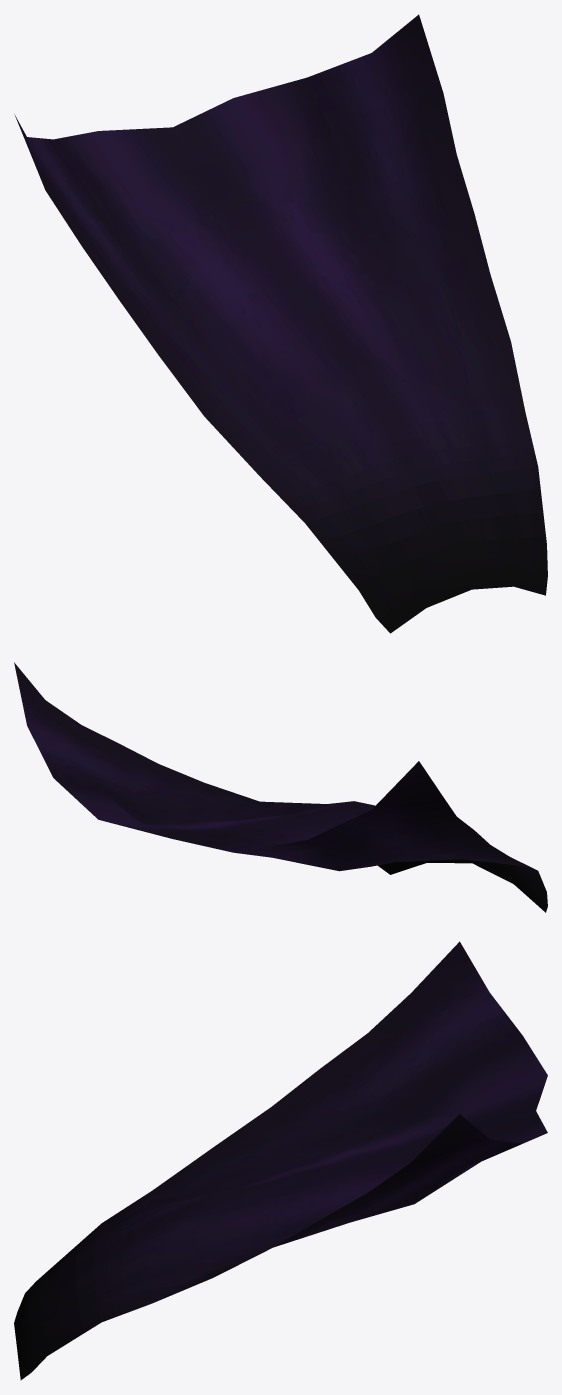
File: tt_m_chr_avt_acc_pac_vampireCape.glb
3 renders of one model, top to bottom at view 1: azimuth 30°, elevation 25°; view 2: azimuth 150°, elevation 25°; view 3: azimuth 270°, elevation 25°, orthographic. The views are drawn at different scales.
Visible parts, largest first — view 1: vampireCape; view 2: vampireCape; view 3: vampireCape.
Part boxes in pixels (bbox=[...]): vampireCape: bbox=[14, 14, 547, 633]; vampireCape: bbox=[14, 662, 547, 912]; vampireCape: bbox=[14, 941, 547, 1380].
Size of the model in its own units: 3.94 by 3.41 by 5.16.
Materials: 1 (1 with a texture image).
